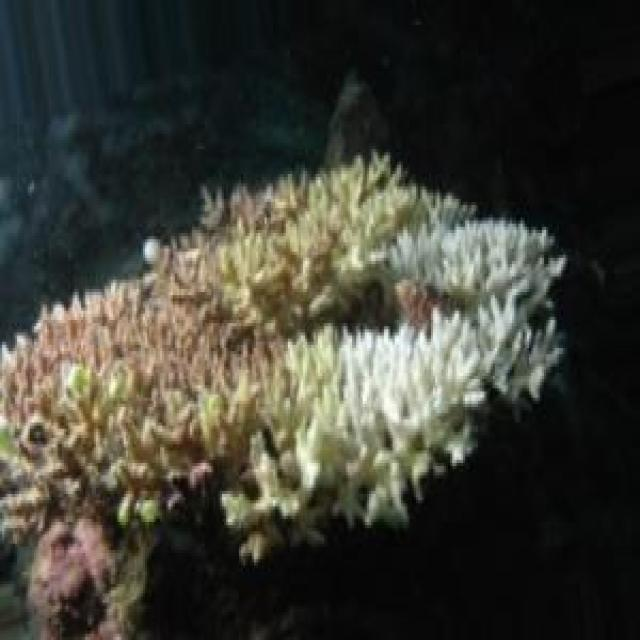bleached coral: (262, 308, 485, 511), (388, 189, 565, 351)
healthy coral: (0, 248, 240, 427), (200, 157, 388, 232)
